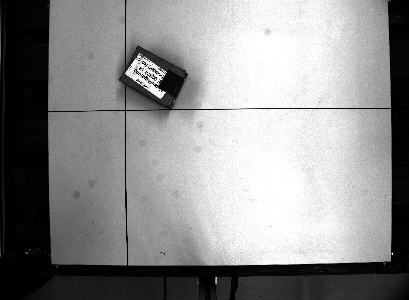b6: (117, 43, 190, 112)
